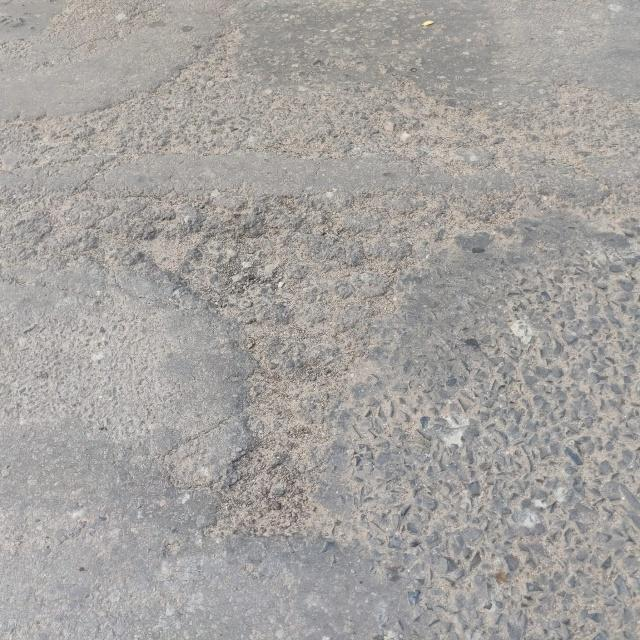Surface Erosion: (24, 79, 612, 611)
